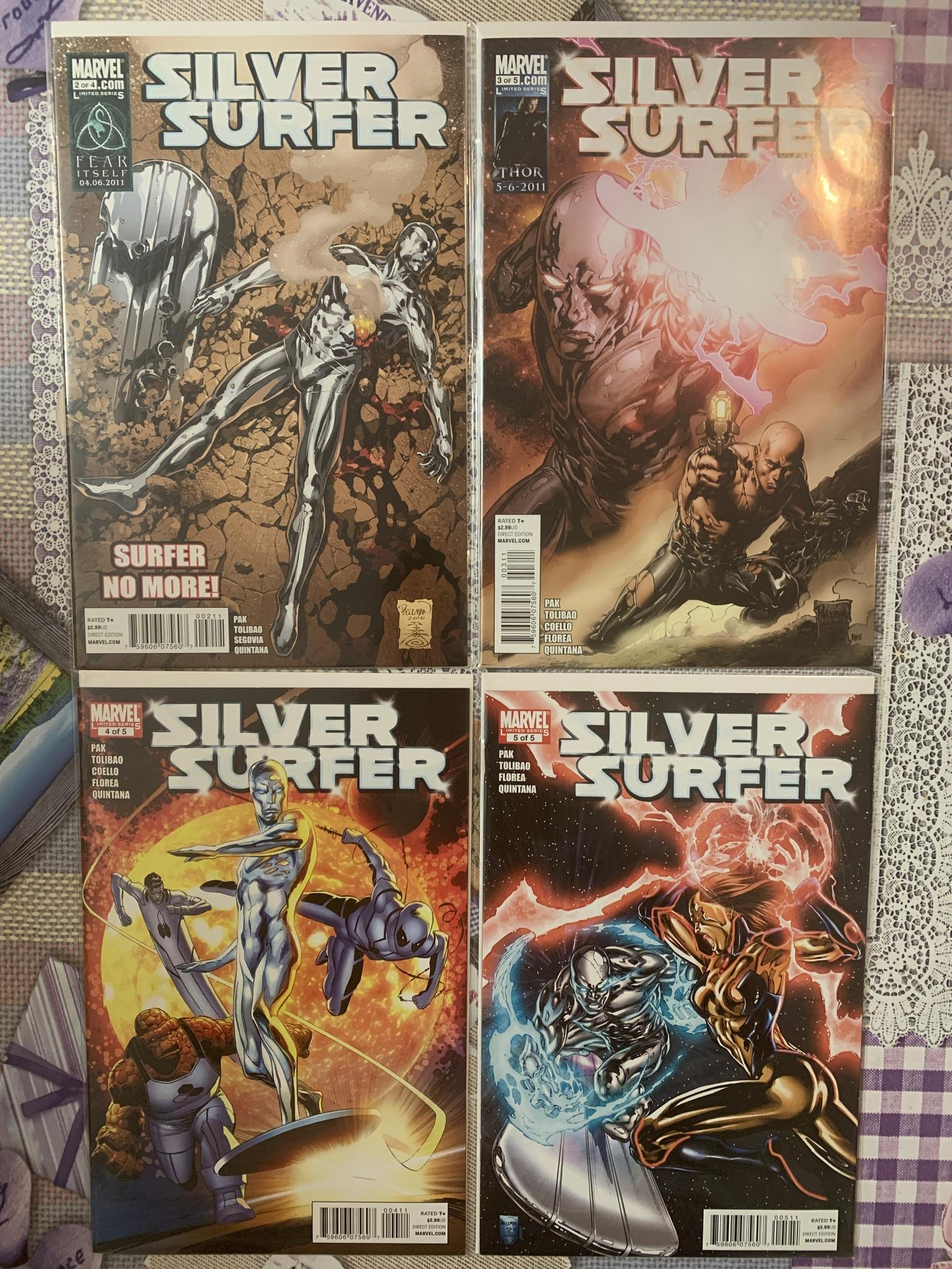comic: (51, 18, 472, 670), (474, 21, 893, 670), (478, 671, 874, 1257), (81, 671, 470, 1254)
